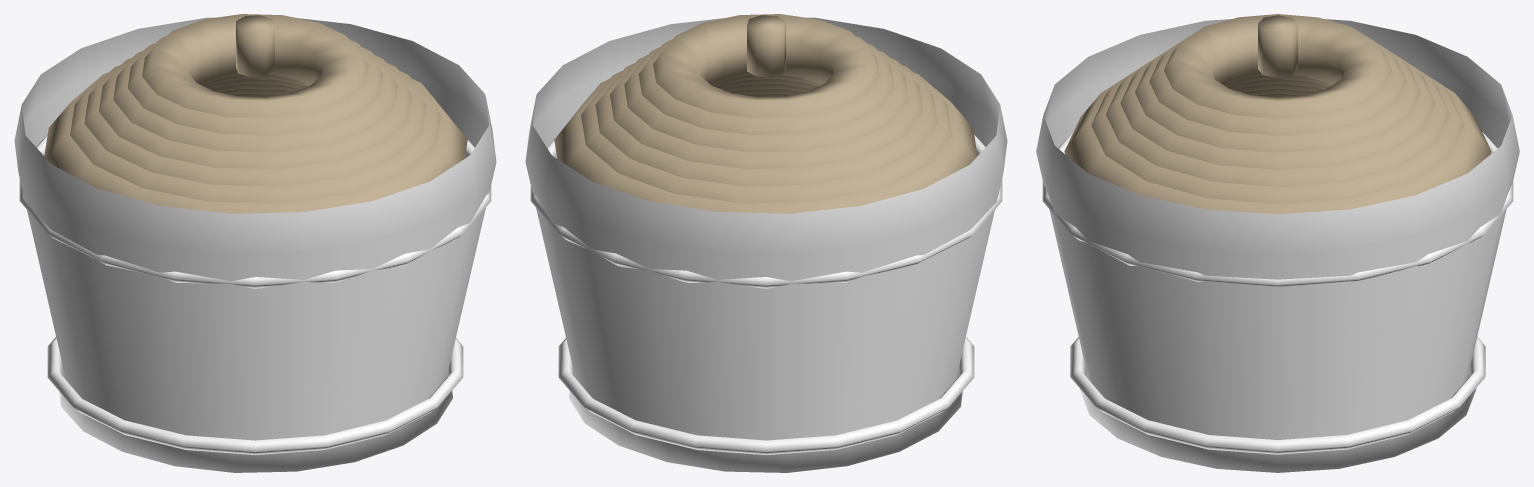
File: line_tub.glb
3 renders of one model, left to right at view 1: azimuth 30°, elevation 25°; view 2: azimuth 150°, elevation 25°; view 3: azimuth 270°, elevation 25°, orthographic.
Visible parts, largest first — view 1: Line_Tub; view 2: Line_Tub; view 3: Line_Tub.
Part boxes in pixels (left/top/right/bottom): Line_Tub: left=14, top=14, right=496, bottom=472; Line_Tub: left=525, top=14, right=1007, bottom=472; Line_Tub: left=1036, top=14, right=1519, bottom=472.
Size of the model in its own units: 0.48 by 0.4 by 0.48.
